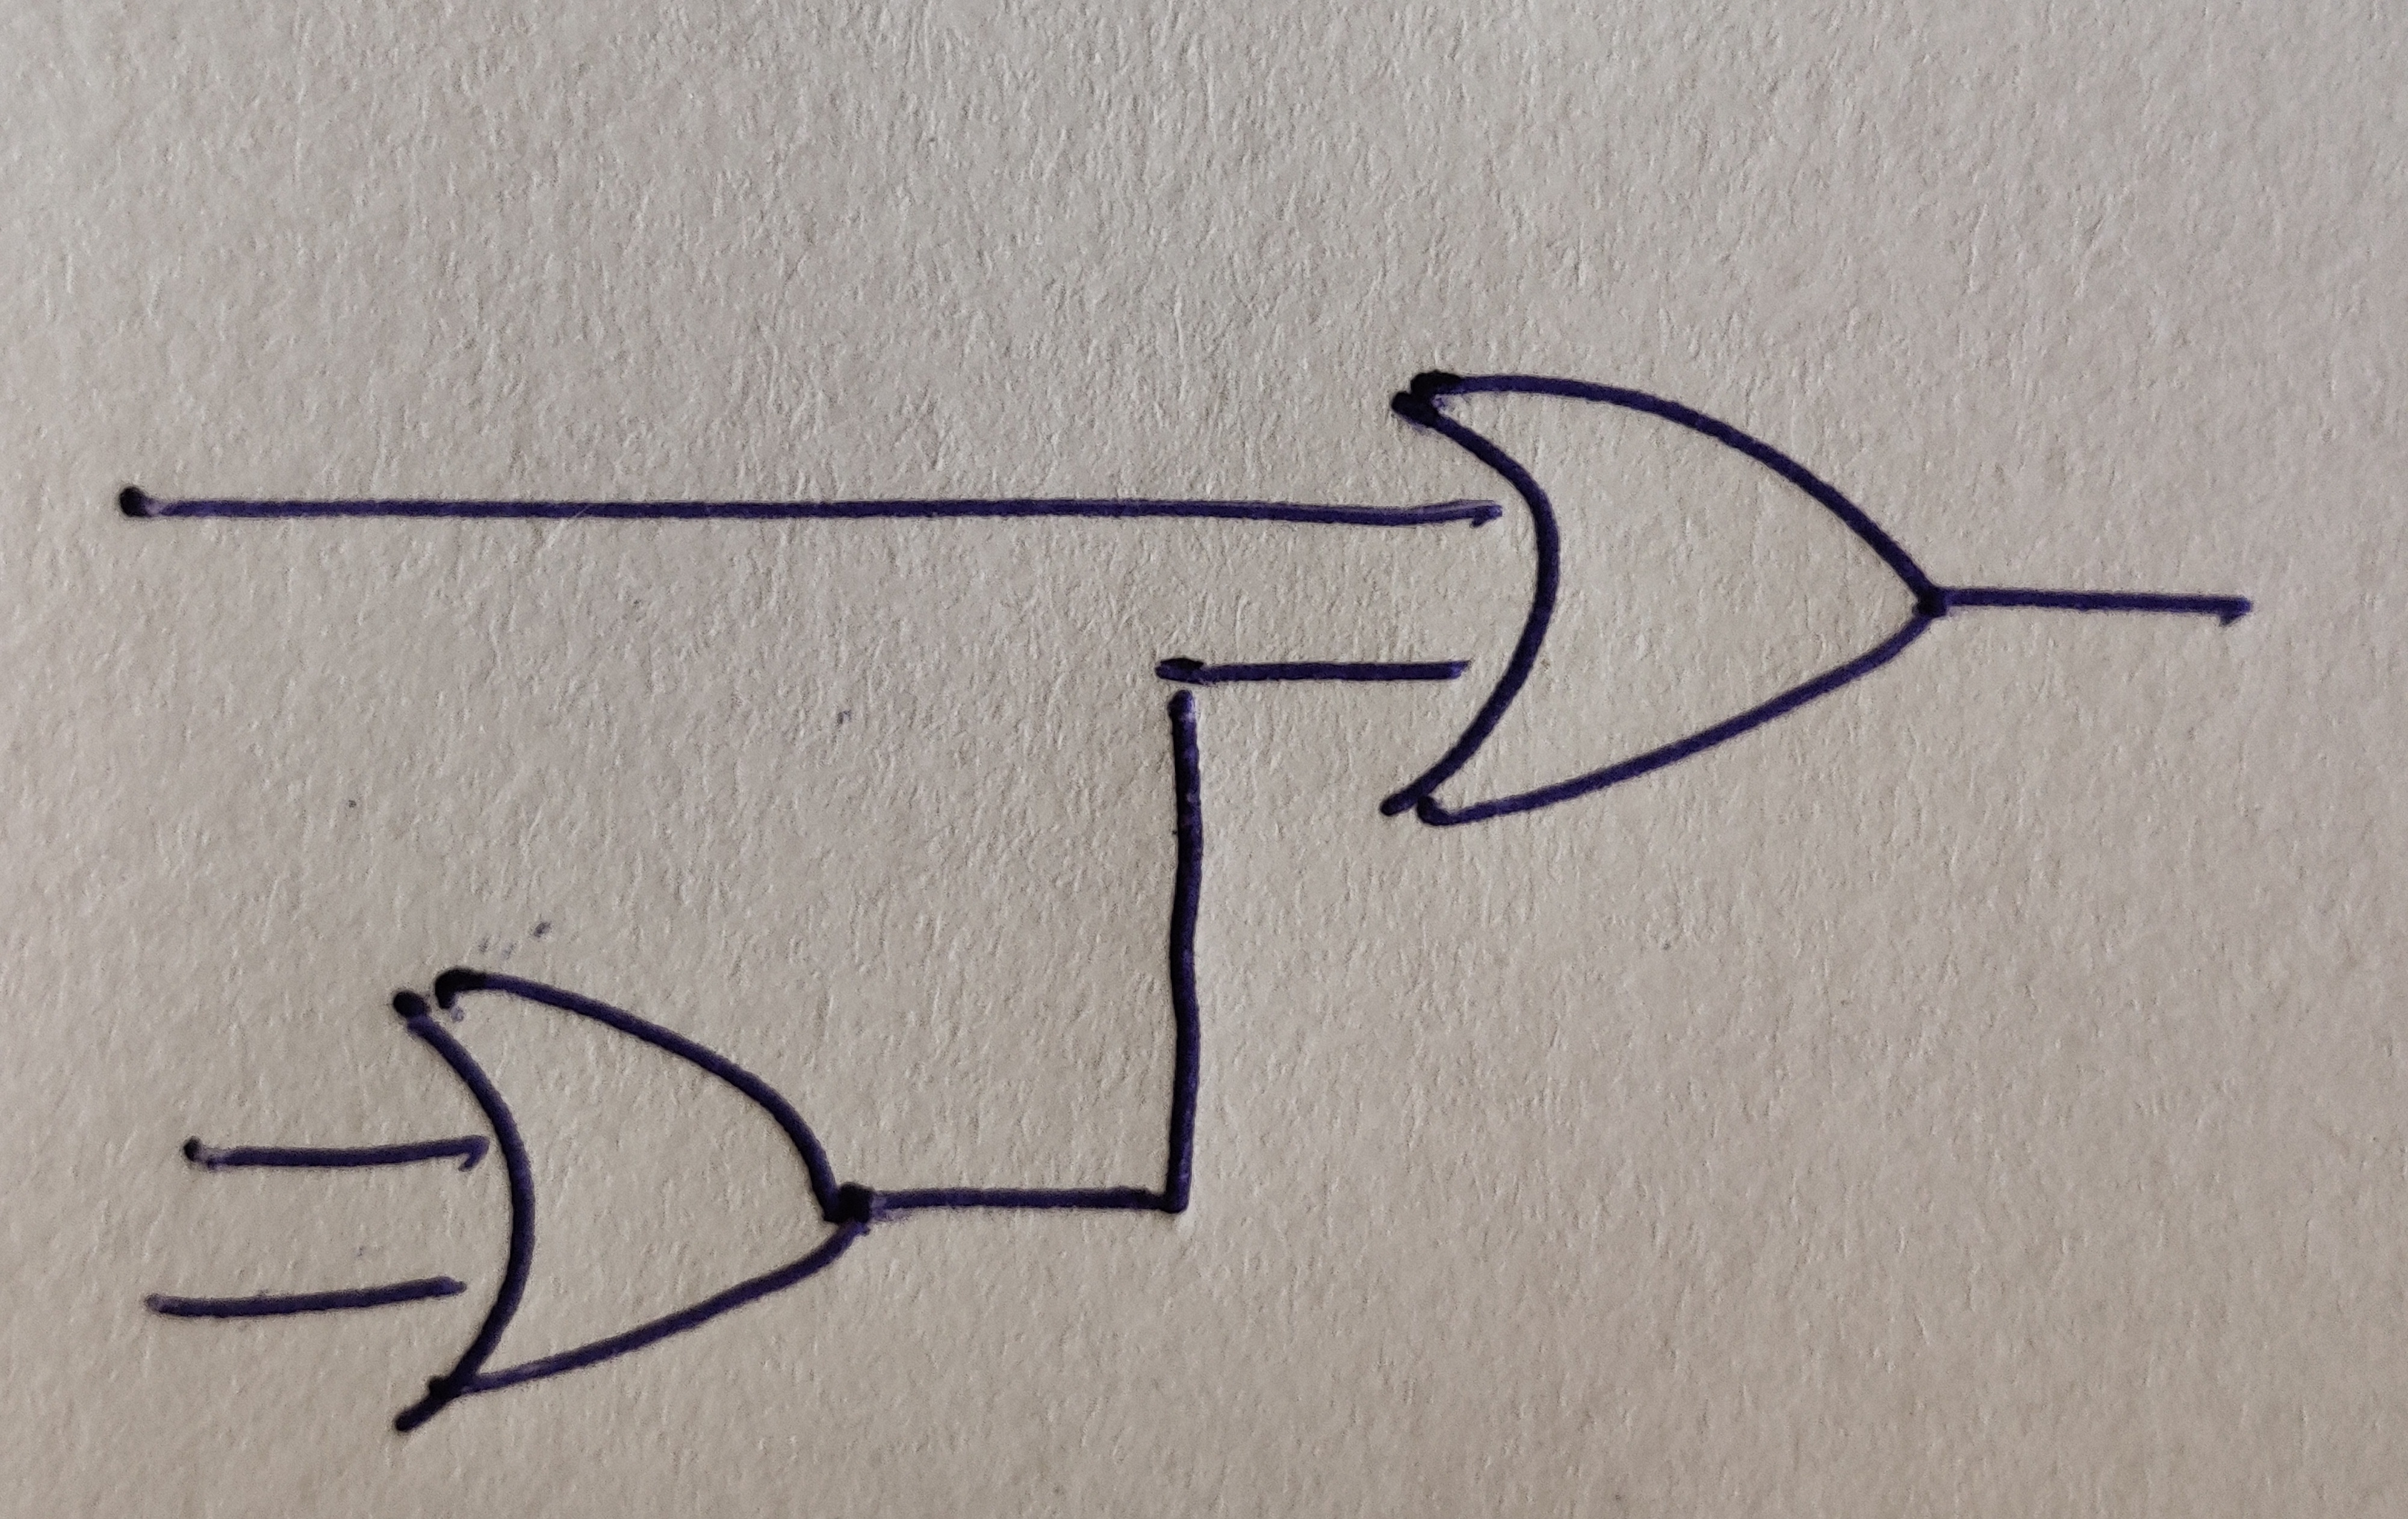or: (1379, 371, 1946, 828), (394, 966, 864, 1433)
